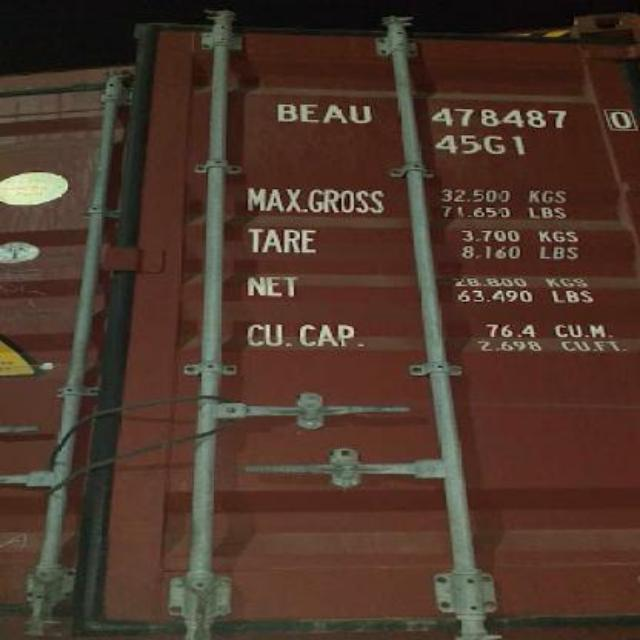0: (604, 108, 634, 132)
4: (426, 105, 454, 131), (498, 106, 524, 130)
7: (452, 104, 476, 130), (544, 108, 574, 128)
8: (474, 106, 500, 130), (524, 108, 546, 132)
A: (318, 100, 348, 126)
B: (274, 102, 298, 128)
E: (296, 101, 320, 125)
U: (348, 101, 378, 125)
